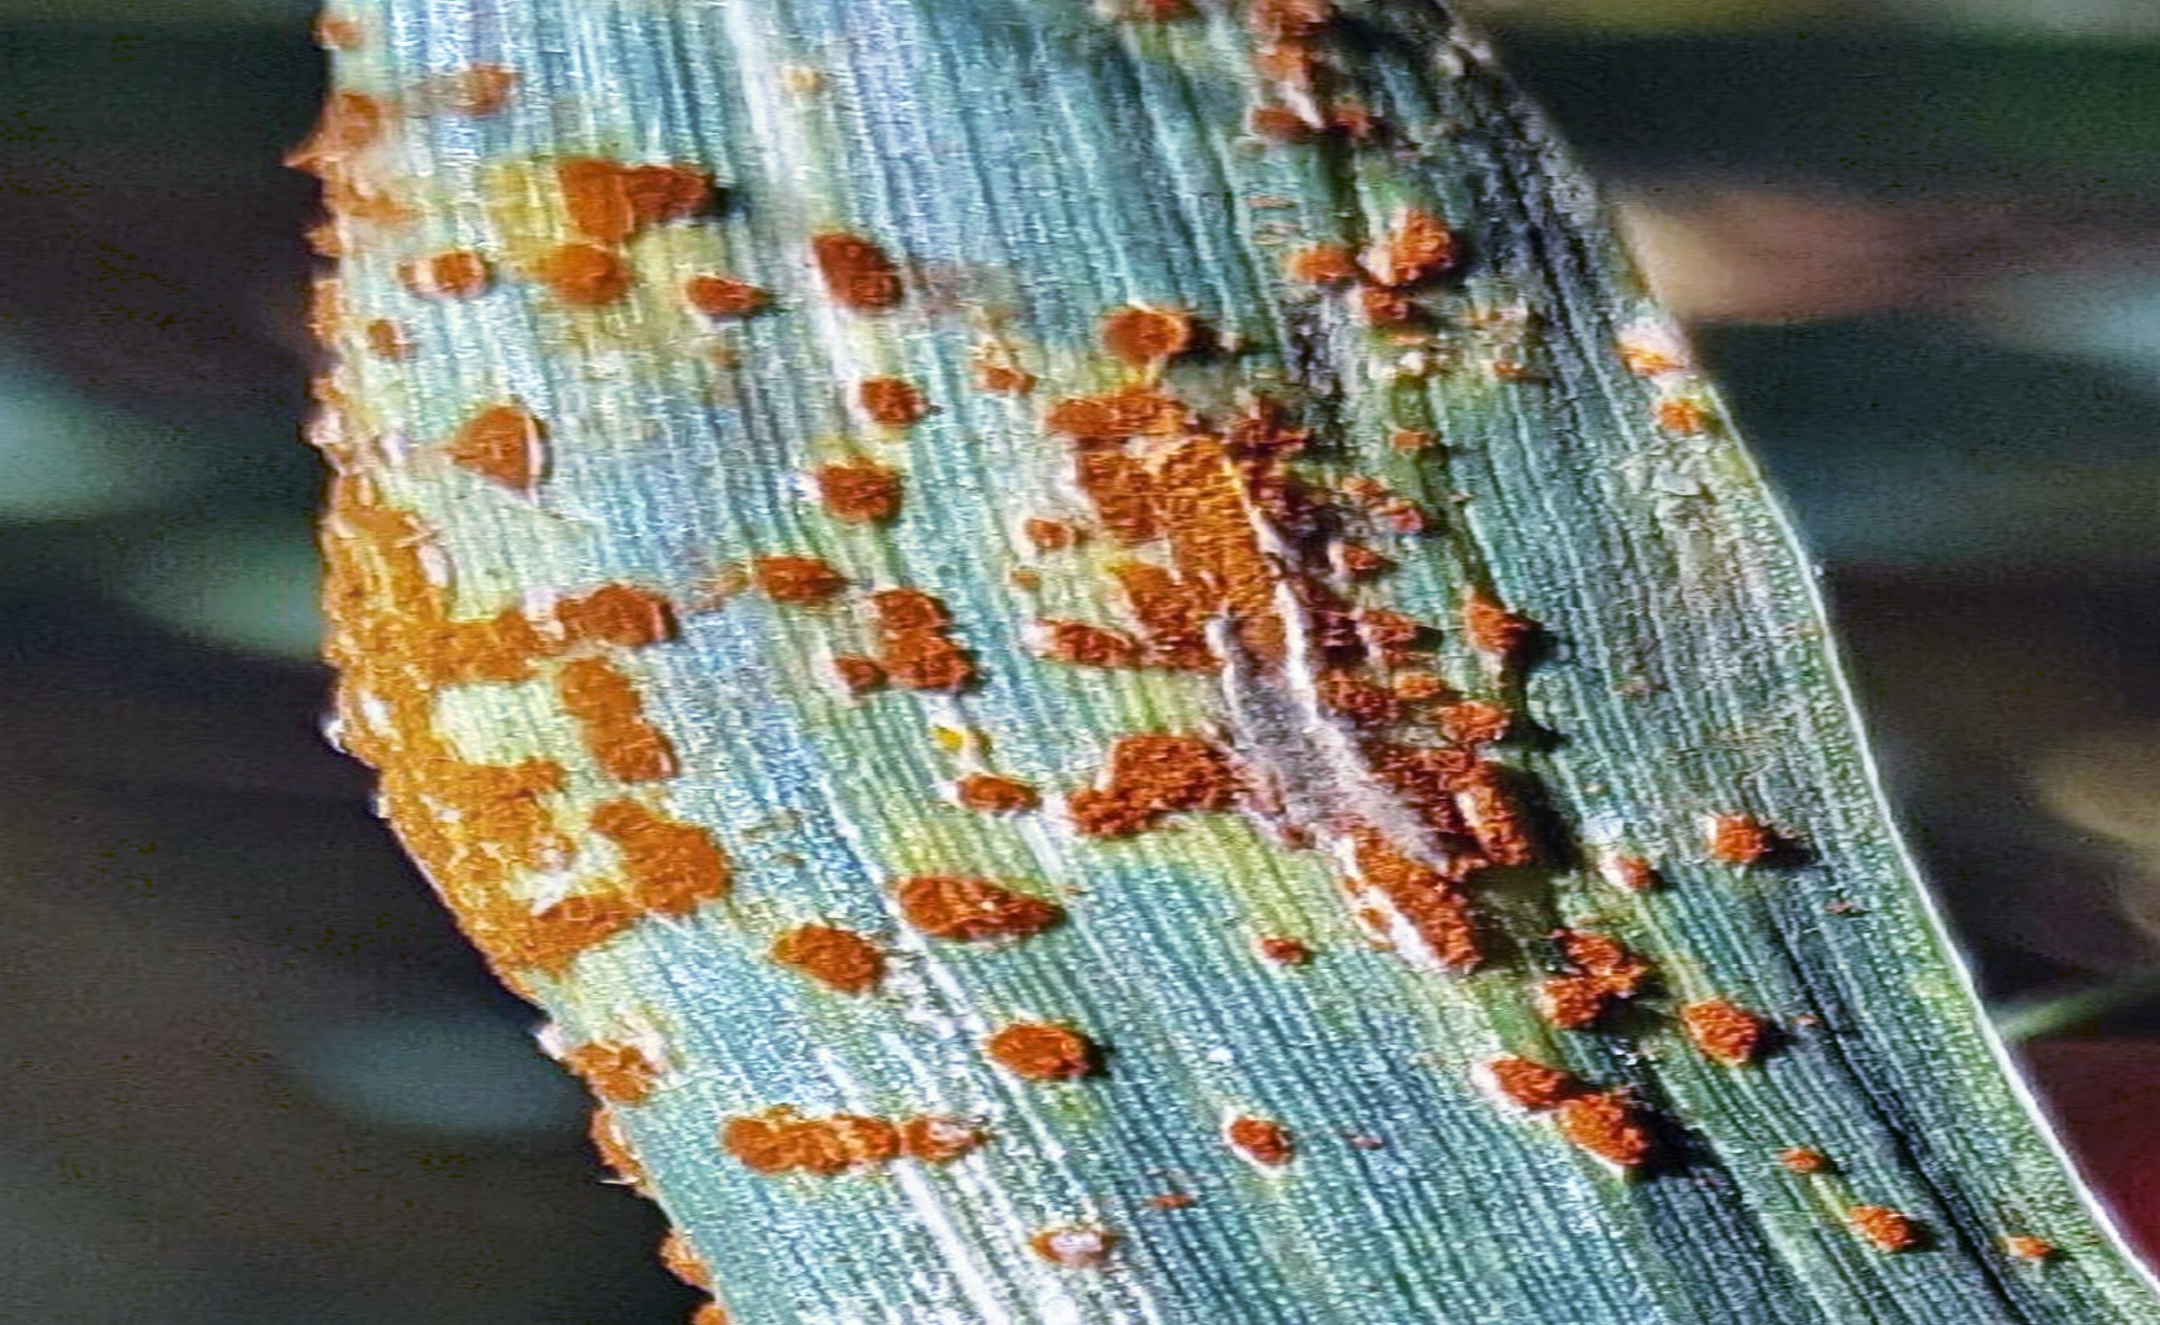Leaf Rust: (228, 113, 1950, 1316)
